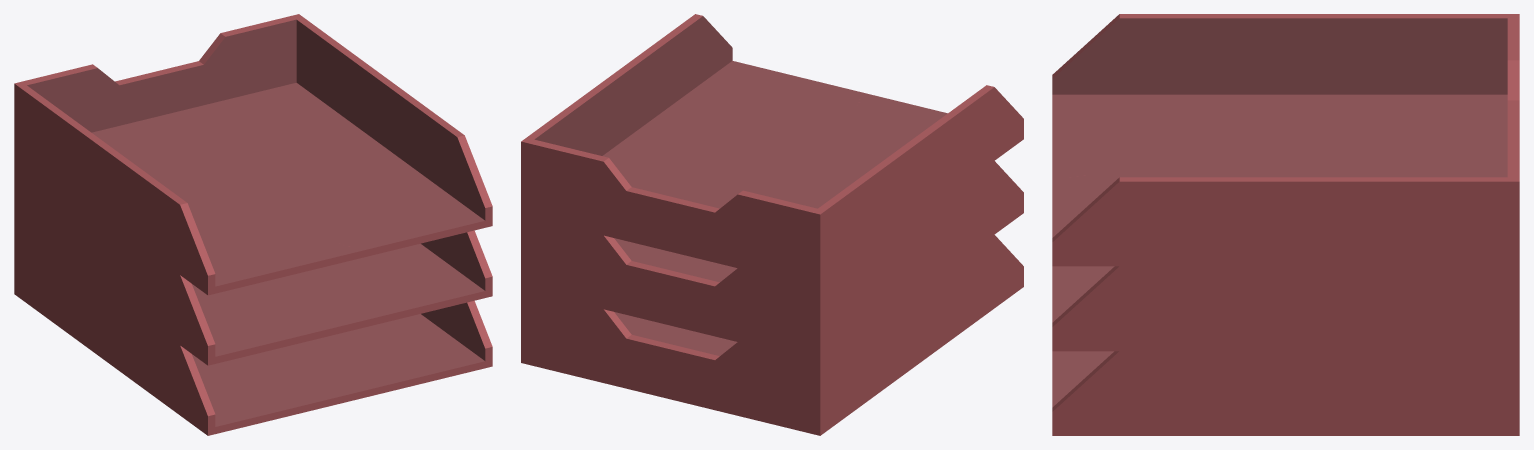
Rendered from Document_Tray_Red.fbx.
The picture shows the model from 3 angles, left to right: view 1: azimuth 30°, elevation 25°; view 2: azimuth 150°, elevation 25°; view 3: azimuth 270°, elevation 25°; orthographic projection. The views are drawn at different scales.
Parts seen in each view (by area): view 1: File_Paper_TrayPack.003; view 2: File_Paper_TrayPack.003; view 3: File_Paper_TrayPack.003.
Part boxes in pixels (bbox=[...]): File_Paper_TrayPack.003: bbox=[14, 14, 492, 435]; File_Paper_TrayPack.003: bbox=[521, 14, 1023, 435]; File_Paper_TrayPack.003: bbox=[1052, 14, 1519, 435].
Size of the model in its own units: 28 by 19.8 by 33.
